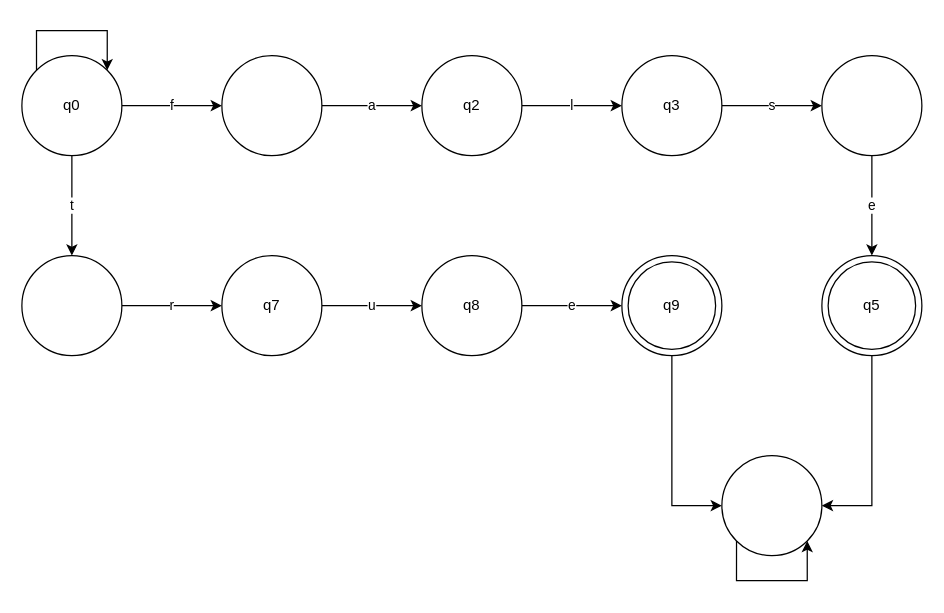
Image size: 944x613. Some labels were removed from this diagram. The box of each missing label's shape, as (x1, y1, x2, y2) in pixels:
q1: (221, 54, 322, 156)
q10: (721, 454, 822, 556)
q4: (821, 54, 922, 156)
q6: (21, 254, 122, 356)
